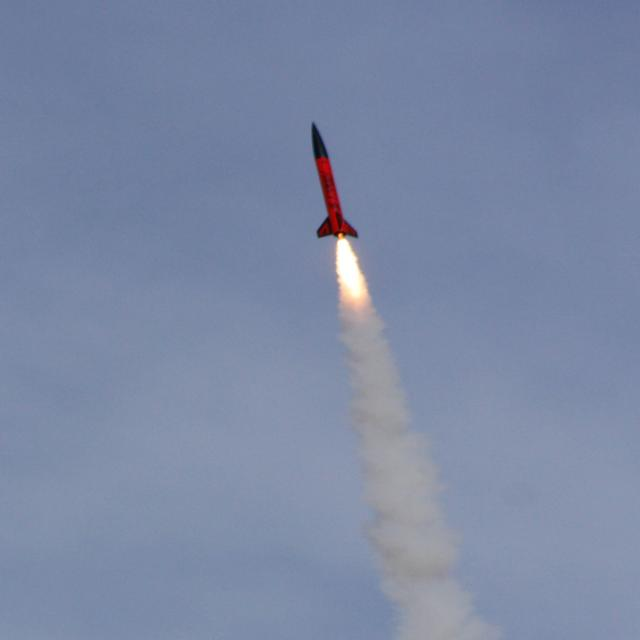Rocket: (308, 121, 362, 242)
